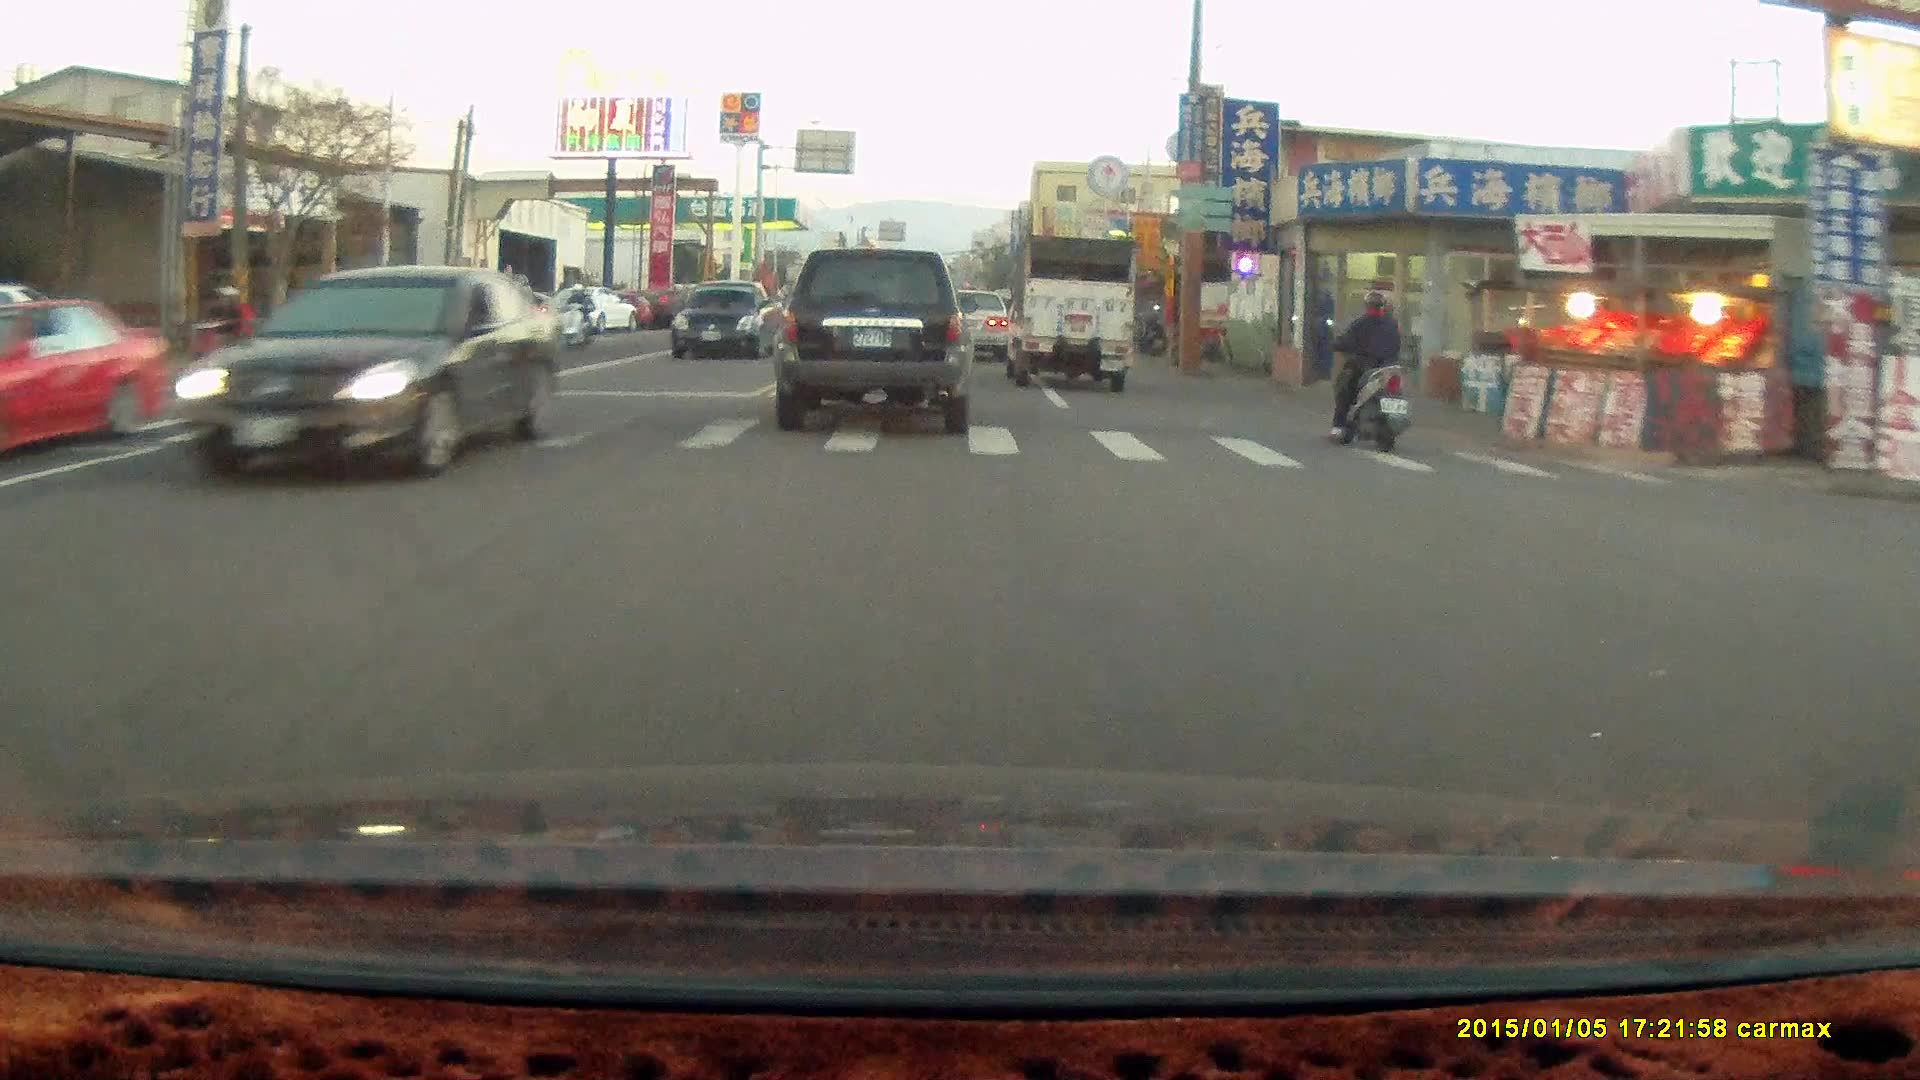rider: (1322, 289, 1413, 455), (174, 278, 268, 388), (555, 281, 595, 356)
vehicle: (163, 263, 567, 485), (774, 248, 980, 435), (1, 291, 172, 468), (1001, 233, 1138, 393), (671, 283, 777, 366), (1, 283, 103, 362), (933, 287, 1009, 361), (948, 291, 1018, 363)
